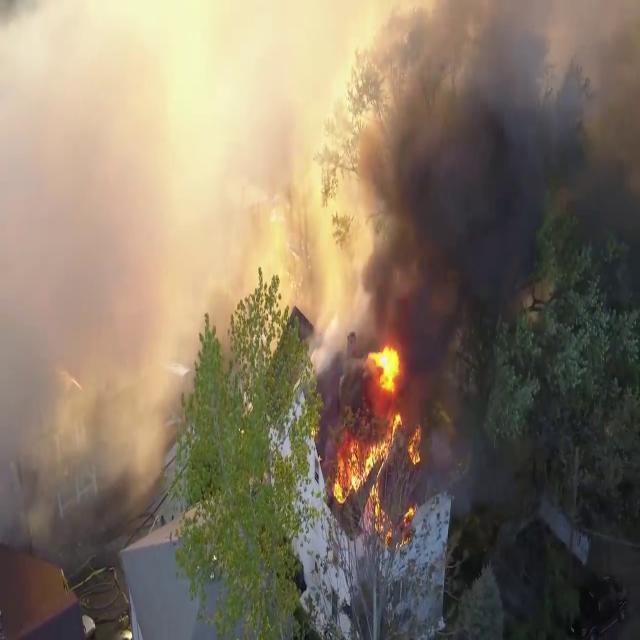Fire: (336, 338, 424, 520), (363, 335, 405, 395)
Smoke: (0, 0, 230, 519), (330, 0, 640, 377)
